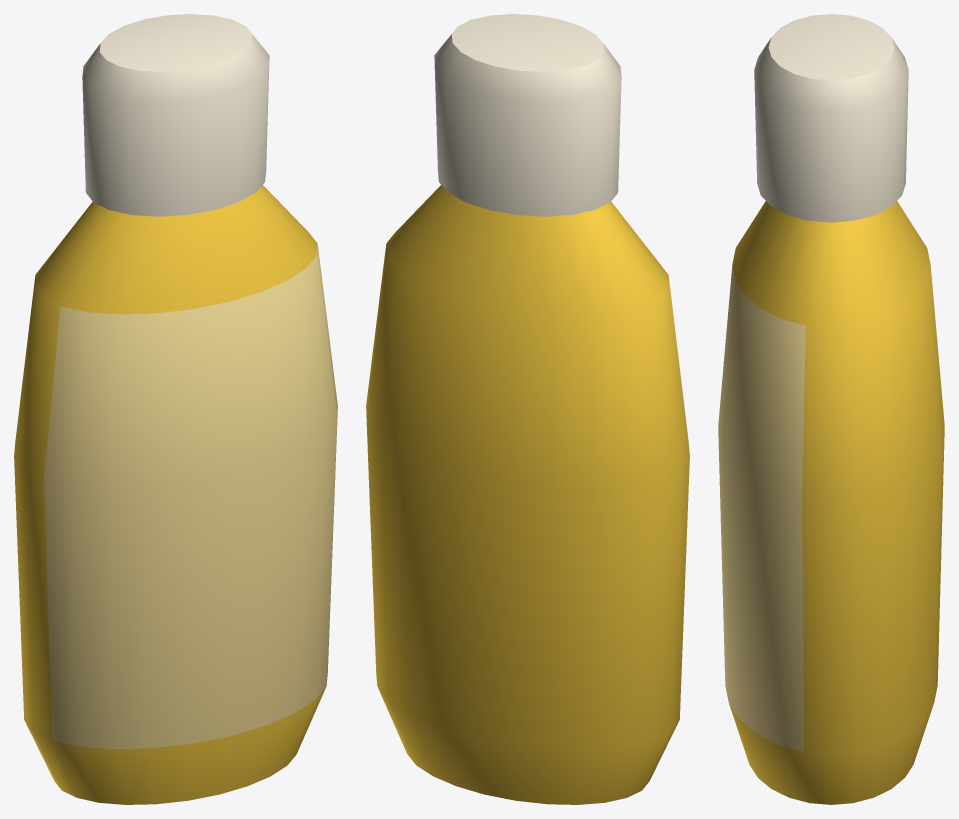
Rendered from frasco_xampu_amarelo.glb.
The picture shows the model from 3 angles, left to right: view 1: azimuth 30°, elevation 25°; view 2: azimuth 150°, elevation 25°; view 3: azimuth 270°, elevation 25°; orthographic projection. The views are drawn at different scales.
Visible parts, largest first — view 1: frasco_xampu_amarelo; view 2: frasco_xampu_amarelo; view 3: frasco_xampu_amarelo.
Part boxes in pixels (x1,y1,x2,y2): frasco_xampu_amarelo: (14, 14, 337, 804); frasco_xampu_amarelo: (366, 14, 689, 804); frasco_xampu_amarelo: (718, 14, 944, 804).
Bounding box in the file's own units: 0.096 × 0.219 × 0.0634.
1 material, 1 textured.
